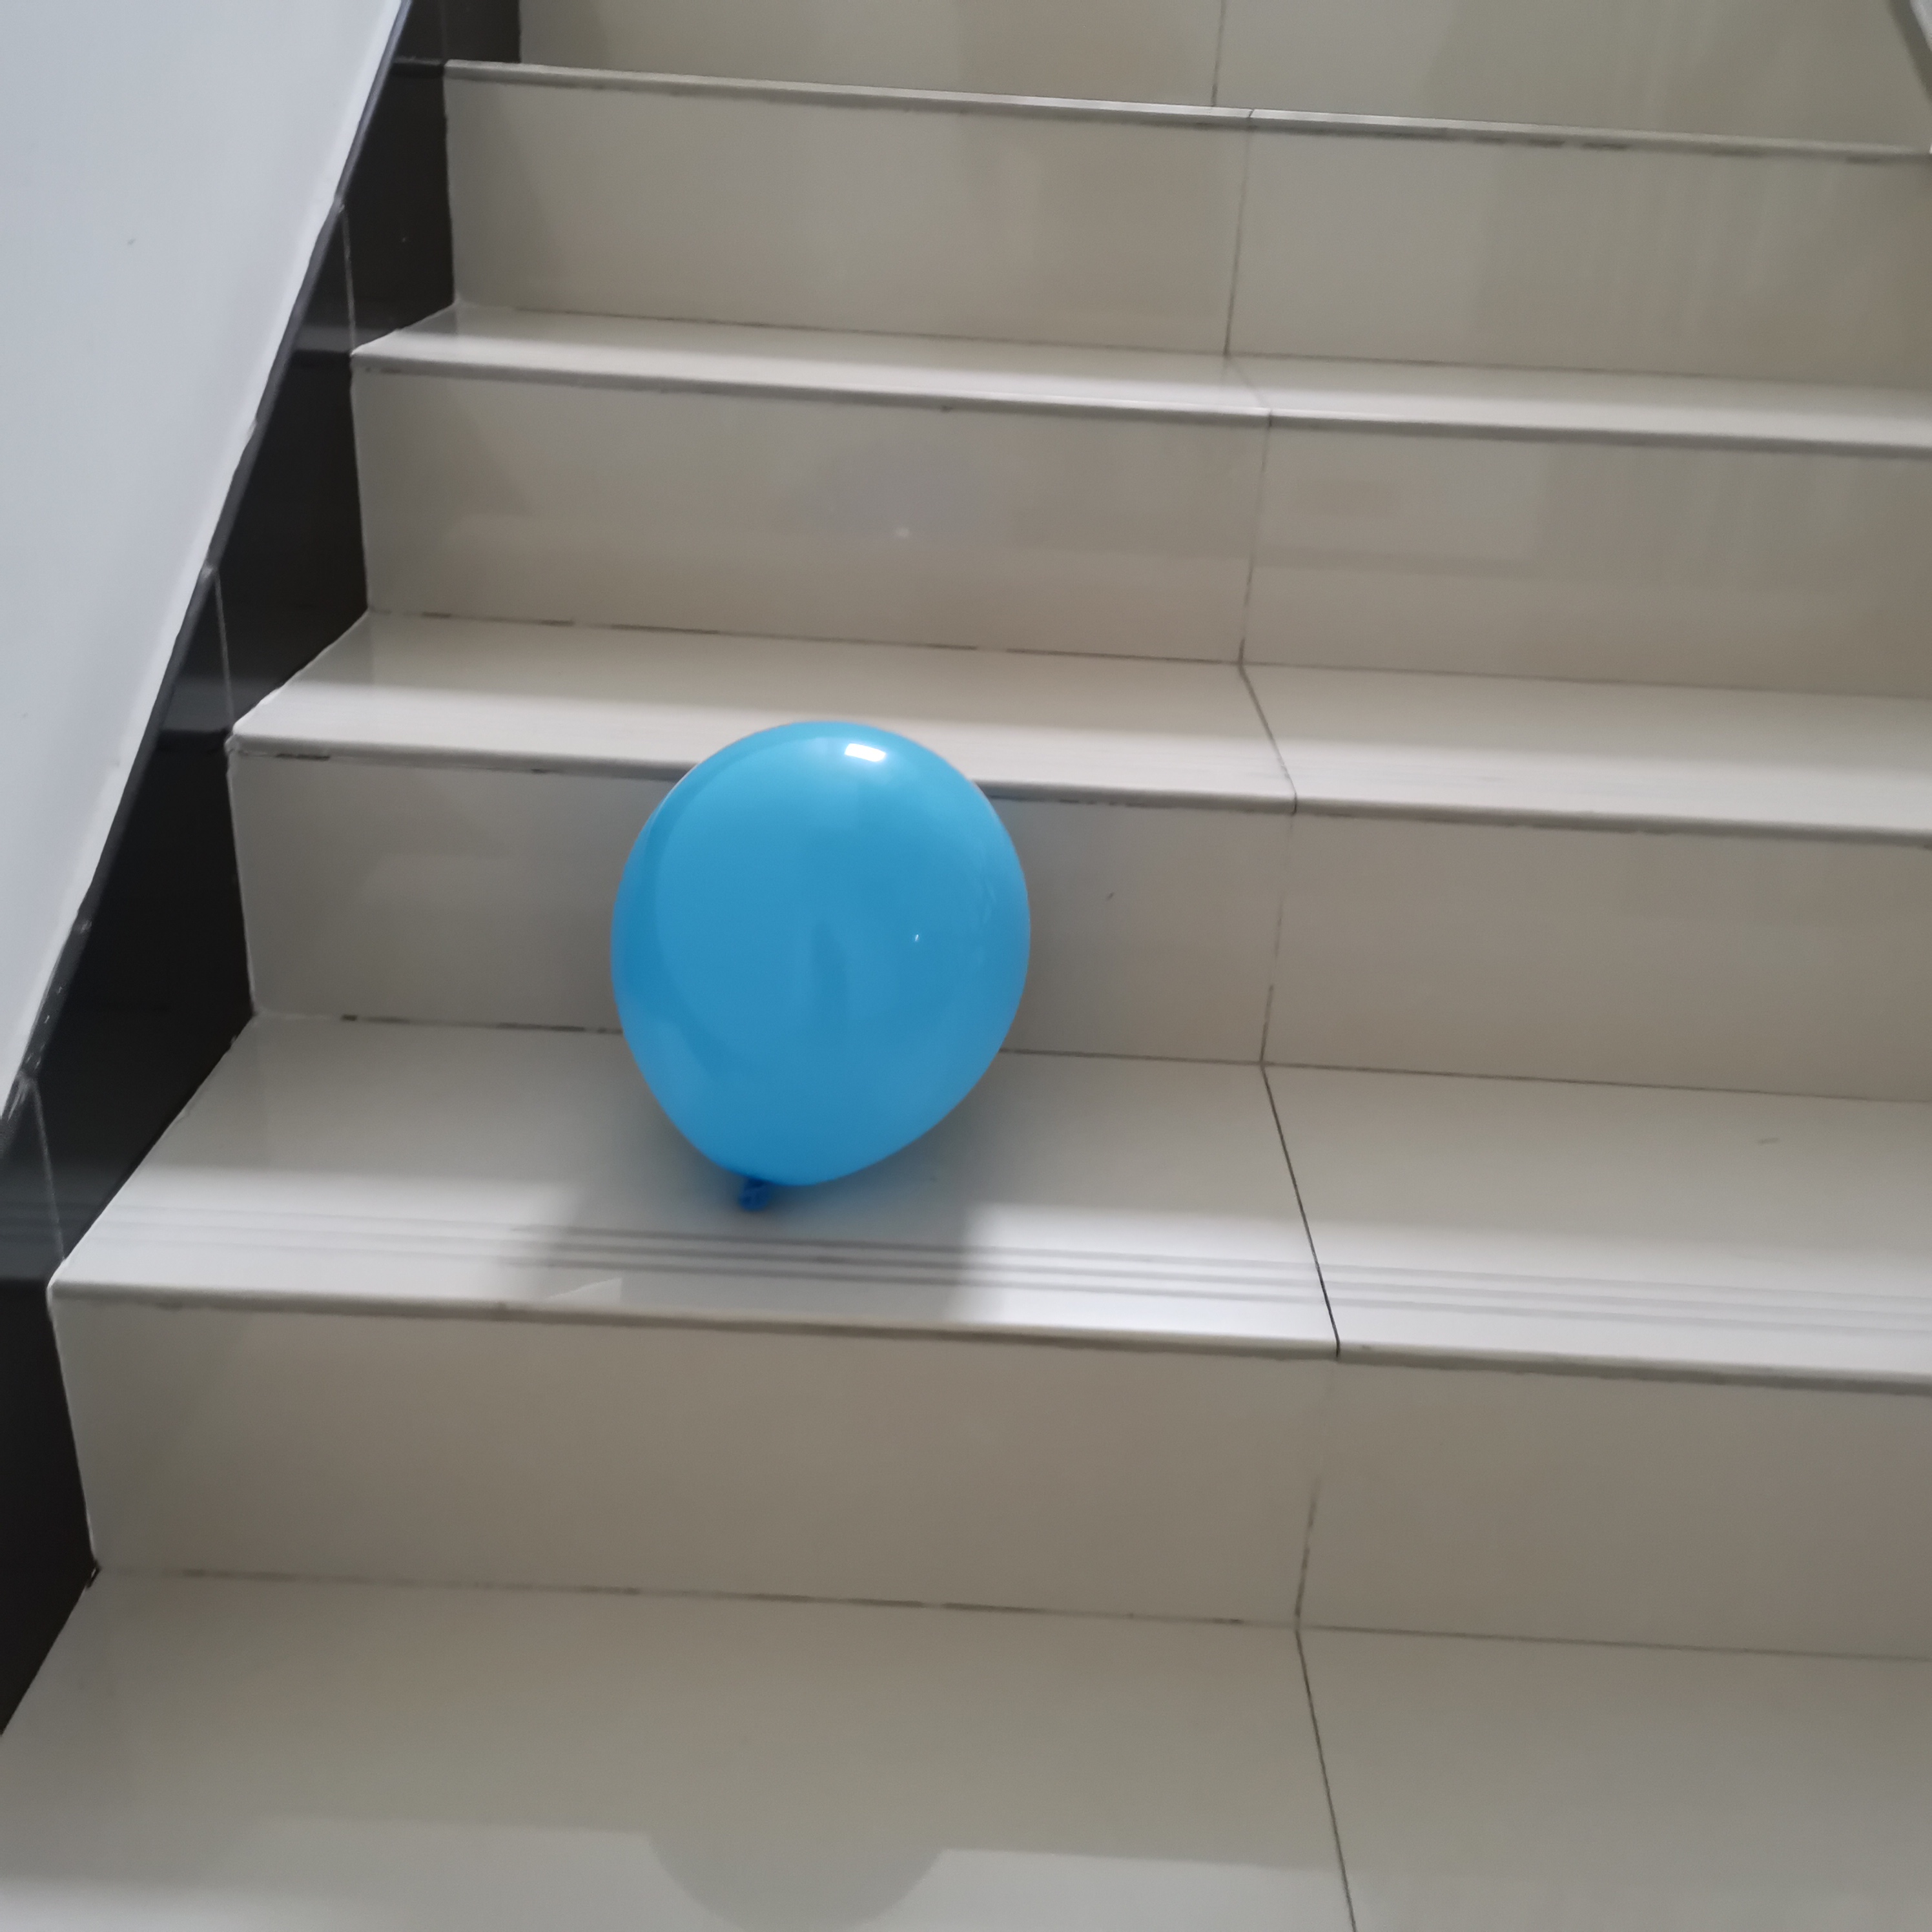balloon: (614, 722, 1031, 1208)
